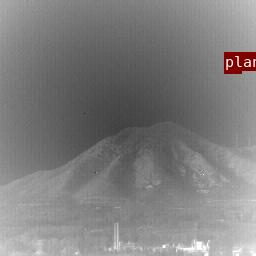plane: (224, 52, 241, 73)
